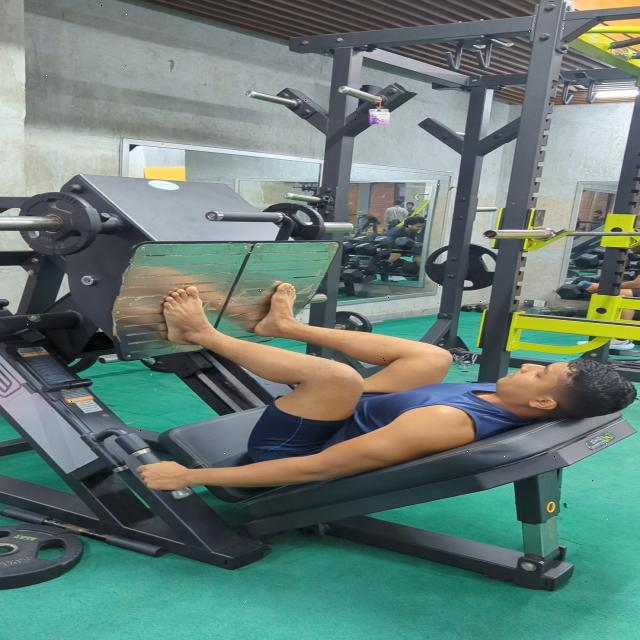Normal_LegPress: (77, 277, 640, 495)
